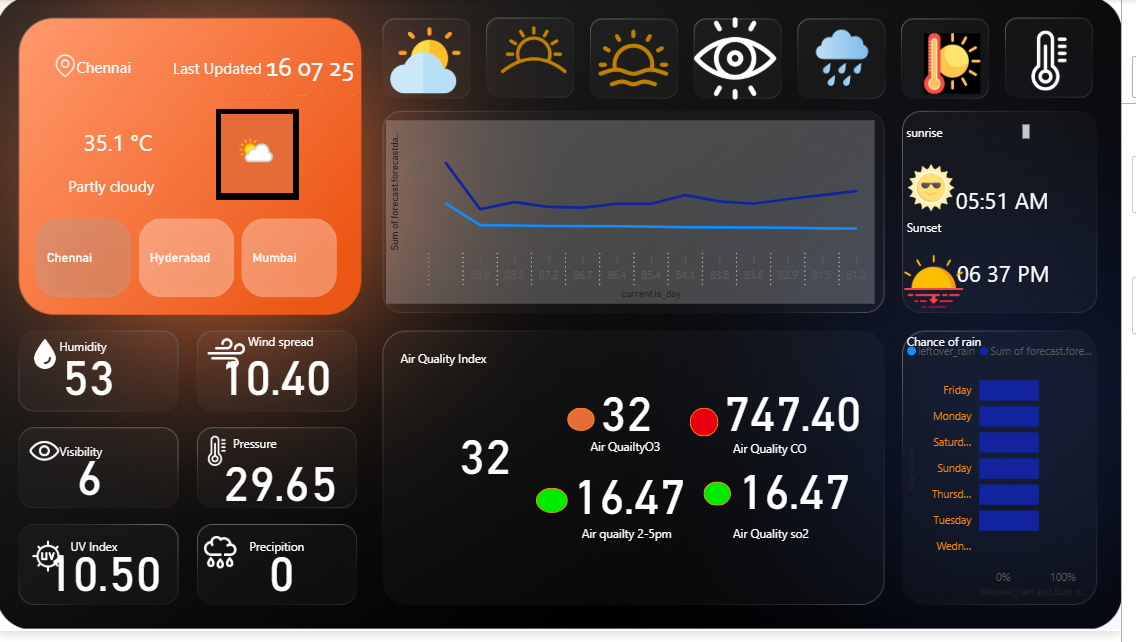

The page's visual inventory and layout, read from the dashboard file:
{"tool":"powerbi","page":{"name":"Page 1","canvas":[1280,720],"ordinal":0},"visuals":[{"type":"advancedSlicerVisual","fields":{"Values":["Locations.location.name"]},"box":[40.4,245.3,353.5,101],"z":0},{"type":"shape","box":[8.9,112.2,261.1,100],"z":1000},{"type":"shape","box":[55.7,177.1,151.4,68.6],"z":2000},{"type":"shape","box":[55.7,42.9,134.3,68.6],"z":3000},{"type":"shape","box":[270,58.6,174.3,51.4],"z":4000},{"type":"image","box":[35.7,58.6,87.1,35.7],"z":5000},{"type":"shape","box":[180,24.3,142.9,105.7],"z":6000},{"type":"cardVisual","fields":{"Data":["Min(Current_Data.current.condition.icon)"]},"box":[250,125.7,94.3,102.9],"z":7000},{"type":"image","box":[31.4,381.4,48.6,45.7],"z":8000},{"type":"image","box":[27.1,488.6,55.7,50],"z":9000},{"type":"image","box":[178.6,375.7,165.7,55.7],"z":10000},{"type":"image","box":[35.7,608.6,47.1,50],"z":11000},{"type":"image","box":[227.1,491.4,47.1,44.3],"z":12000},{"type":"image","box":[227.1,600,55.7,58.6],"z":13000},{"type":"textbox","box":[67,381,112,28],"z":14000},{"type":"textbox","box":[281.4,375.7,150,28.6],"z":15000},{"type":"textbox","box":[67.1,500,150,28.6],"z":16000},{"type":"textbox","box":[264.3,491.4,150,28.6],"z":17000},{"type":"textbox","box":[80,608.6,150,28.6],"z":18000},{"type":"textbox","box":[282.9,608.6,150,28.6],"z":19000},{"type":"card","fields":{"Values":["Sum(Current_Data.current.humidity)"]},"box":[29.4,407.1,150,57.1],"z":20000},{"type":"card","fields":{"Values":["Sum(Current_Data.current.pressure_in)"]},"box":[248.3,528.3,150,56.7],"z":21000},{"type":"card","fields":{"Values":["Sum(Current_Data.current.wind_kph)"]},"box":[243.3,406.7,150,58.3],"z":22000},{"type":"card","fields":{"Values":["Sum(Current_Data.current.vis_km)"]},"box":[31.7,520,150,56.7],"z":23000},{"type":"card","fields":{"Values":["Sum(Current_Data.current.uv)"]},"box":[48.3,630,150,56.7],"z":24000},{"type":"card","fields":{"Values":["Sum(Current_Data.current.precip_in)"]},"box":[250,630,150,56.7],"z":25000},{"type":"lineChart","fields":{"Y":["Sum(forcaste_day.forecast.forecastday.day.avgtemp_c)","Sum(forcaste_day.forecast.forecastday.day.avghumidity)"],"Category":["forcaste_day.forecast.forecastday.day.avgtemp_f","Current_Data.current.is_day"]},"box":[444.3,138.6,555.7,208.6],"z":26000},{"type":"textbox","box":[1031.7,138.3,150,26.7],"z":27000},{"type":"shape","box":[1031.1,183.3,227.8,91.1],"z":28000},{"type":"shape","box":[1031.1,274.4,230,73.3],"z":29000},{"type":"textbox","box":[1031.7,246.7,150,28.3],"z":30000},{"type":"hundredPercentStackedBarChart","fields":{"Category":["forcaste_day.day-name"],"Y":["Current_Data.leftover_rain","Sum(forcaste_day.forecast.forecastday.day.daily_chance_of_rain)"]},"box":[1031.7,381.7,230,305],"z":31000},{"type":"textbox","box":[1031.7,375,188.3,28.3],"z":32000},{"type":"textbox","box":[455.6,395.6,150,28.9],"z":33000},{"type":"card","fields":{"Values":["Sum(Current_Data.current.air_quality.o3)"]},"box":[463.8,495,186.2,60],"z":34000},{"type":"card","fields":{"Values":["Sum(Current_Data.current.air_quality.so2)"]},"box":[815,535,186.2,60],"z":35000},{"type":"card","fields":{"Values":["Sum(Current_Data.current.air_quality.co)"]},"box":[813.8,446.2,186.2,60],"z":36000},{"type":"textbox","box":[833.8,595,150,27.5],"z":37000},{"type":"textbox","box":[833.8,497.5,150,27.5],"z":38000},{"type":"textbox","box":[671.2,495,127.5,45],"z":39000},{"type":"card","fields":{"Values":["Sum(Current_Data.current.air_quality.pm2_5)"]},"box":[627.5,540,186.2,60],"z":40000},{"type":"textbox","box":[661.2,595,127.5,45],"z":41000},{"type":"card","fields":{"Values":["Sum(Current_Data.current.air_quality.o3)"]},"box":[623.8,446.2,186.2,60],"z":42000},{"type":"shape","box":[788.8,465,32.5,32.5],"z":43000},{"type":"shape","box":[613.8,556.2,36.2,28.8],"z":44000},{"type":"shape","box":[650,465,31.2,26.2],"z":45000},{"type":"shape","box":[805,548.8,31.2,27.5],"z":46000},{"type":"image","box":[443.8,23.8,90,91.2],"z":47000},{"type":"image","box":[557.5,0,108.8,115],"z":48000},{"type":"image","box":[678.8,22.5,93.8,88.8],"z":49000},{"type":"image","box":[788.8,12.5,103.8,110],"z":50000},{"type":"image","box":[1157.5,31.2,81.2,77.5],"z":51000},{"type":"image","box":[1031.2,183.8,66.2,62.5],"z":52000},{"type":"image","box":[925.9,28.4,74,76.8],"z":53000},{"type":"image","box":[1026.8,283,79.6,76.8],"z":54000},{"type":"image","box":[1049.6,34.1,76.8,78.2],"z":55000}]}

Visuals, with their boxes in screenshot pixels (x1, y1, x2, y2), scaled from the page's 1280x720 canvas onto the 1136x642 screenshot:
advancedSlicerVisual - Locations.location.name: (x1=36, y1=219, x2=350, y2=309)
shape: (x1=8, y1=100, x2=240, y2=189)
shape: (x1=49, y1=158, x2=184, y2=219)
shape: (x1=49, y1=38, x2=169, y2=99)
shape: (x1=240, y1=52, x2=394, y2=98)
image: (x1=32, y1=52, x2=109, y2=84)
shape: (x1=160, y1=22, x2=287, y2=116)
cardVisual - Min(Current_Data.current.condition.icon): (x1=222, y1=112, x2=306, y2=204)
image: (x1=28, y1=340, x2=71, y2=381)
image: (x1=24, y1=436, x2=73, y2=480)
image: (x1=159, y1=335, x2=306, y2=385)
image: (x1=32, y1=543, x2=73, y2=587)
image: (x1=202, y1=438, x2=243, y2=478)
image: (x1=202, y1=535, x2=251, y2=587)
textbox: (x1=59, y1=340, x2=159, y2=365)
textbox: (x1=250, y1=335, x2=383, y2=361)
textbox: (x1=60, y1=446, x2=193, y2=471)
textbox: (x1=235, y1=438, x2=368, y2=464)
textbox: (x1=71, y1=543, x2=204, y2=568)
textbox: (x1=251, y1=543, x2=384, y2=568)
card - Sum(Current_Data.current.humidity): (x1=26, y1=363, x2=159, y2=414)
card - Sum(Current_Data.current.pressure_in): (x1=220, y1=471, x2=353, y2=522)
card - Sum(Current_Data.current.wind_kph): (x1=216, y1=363, x2=349, y2=415)
card - Sum(Current_Data.current.vis_km): (x1=28, y1=464, x2=161, y2=514)
card - Sum(Current_Data.current.uv): (x1=43, y1=562, x2=176, y2=612)
card - Sum(Current_Data.current.precip_in): (x1=222, y1=562, x2=355, y2=612)
lineChart - Sum(forcaste_day.forecast.forecastday.day.avgtemp_c) x Sum(forcaste_day.forecast.forecastday.day.avghumidity): (x1=394, y1=124, x2=888, y2=310)
textbox: (x1=916, y1=123, x2=1049, y2=147)
shape: (x1=915, y1=163, x2=1117, y2=245)
shape: (x1=915, y1=245, x2=1119, y2=310)
textbox: (x1=916, y1=220, x2=1049, y2=245)
hundredPercentStackedBarChart - forcaste_day.day-name x Current_Data.leftover_rain: (x1=916, y1=340, x2=1120, y2=612)
textbox: (x1=916, y1=334, x2=1083, y2=360)
textbox: (x1=404, y1=353, x2=537, y2=379)
card - Sum(Current_Data.current.air_quality.o3): (x1=412, y1=441, x2=577, y2=495)
card - Sum(Current_Data.current.air_quality.so2): (x1=723, y1=477, x2=889, y2=531)
card - Sum(Current_Data.current.air_quality.co): (x1=722, y1=398, x2=888, y2=451)
textbox: (x1=740, y1=531, x2=873, y2=555)
textbox: (x1=740, y1=444, x2=873, y2=468)
textbox: (x1=596, y1=441, x2=709, y2=482)
card - Sum(Current_Data.current.air_quality.pm2_5): (x1=557, y1=482, x2=722, y2=535)
textbox: (x1=587, y1=531, x2=700, y2=571)
card - Sum(Current_Data.current.air_quality.o3): (x1=554, y1=398, x2=719, y2=451)
shape: (x1=700, y1=415, x2=729, y2=444)
shape: (x1=545, y1=496, x2=577, y2=522)
shape: (x1=577, y1=415, x2=605, y2=438)
shape: (x1=714, y1=489, x2=742, y2=514)
image: (x1=394, y1=21, x2=474, y2=103)
image: (x1=495, y1=0, x2=591, y2=103)
image: (x1=602, y1=20, x2=686, y2=99)
image: (x1=700, y1=11, x2=792, y2=109)
image: (x1=1027, y1=28, x2=1099, y2=97)
image: (x1=915, y1=164, x2=974, y2=220)
image: (x1=822, y1=25, x2=887, y2=94)
image: (x1=911, y1=252, x2=982, y2=321)
image: (x1=932, y1=30, x2=1000, y2=100)
